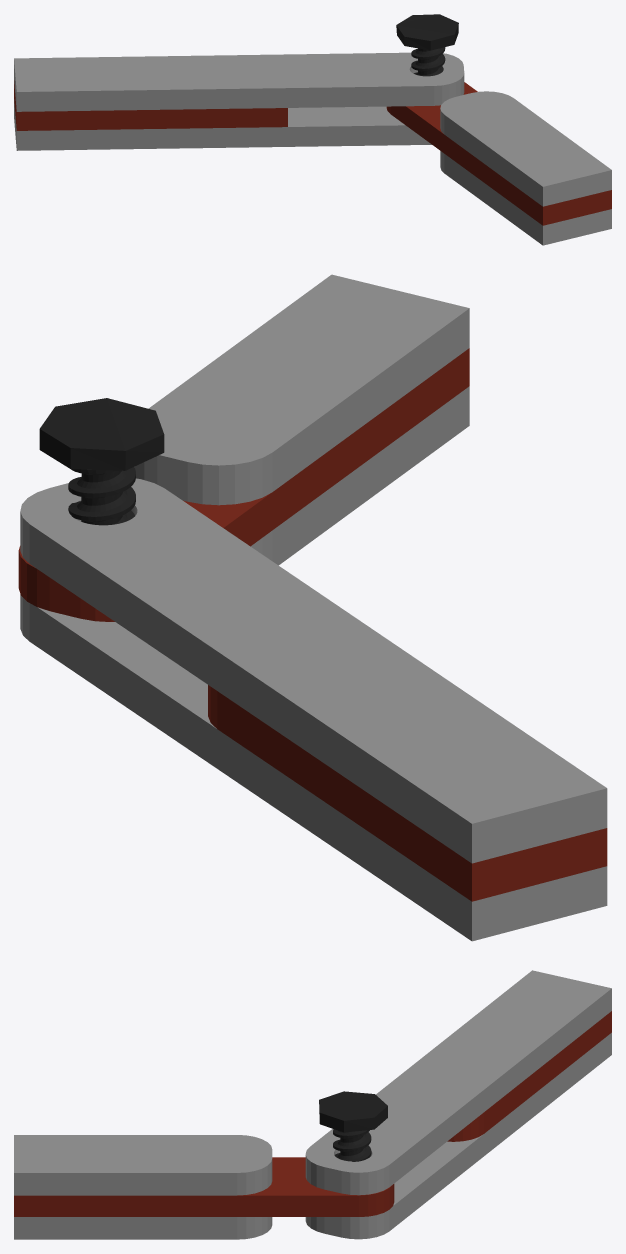
The model's file is tornillo_Y_atornillado.fbx.
3 views of the same model, one above another, from view 1: azimuth 30°, elevation 25°; view 2: azimuth 150°, elevation 25°; view 3: azimuth 270°, elevation 25° (orthographic). The views are drawn at different scales.
Parts seen in each view (by area): view 1: Atornillame, Tornillo; view 2: Atornillame, Tornillo; view 3: Atornillame, Tornillo.
Boxes of the visible parts, x1=… form: Atornillame: x1=14, y1=52, x2=611, y2=245; Tornillo: x1=396, y1=14, x2=458, y2=76; Atornillame: x1=18, y1=274, x2=607, y2=941; Tornillo: x1=39, y1=398, x2=164, y2=525; Atornillame: x1=14, y1=970, x2=611, y2=1239; Tornillo: x1=319, y1=1091, x2=387, y2=1161.
Bounding box in the file's own units: 188 × 49.55 × 234.
1 material, 1 textured.
